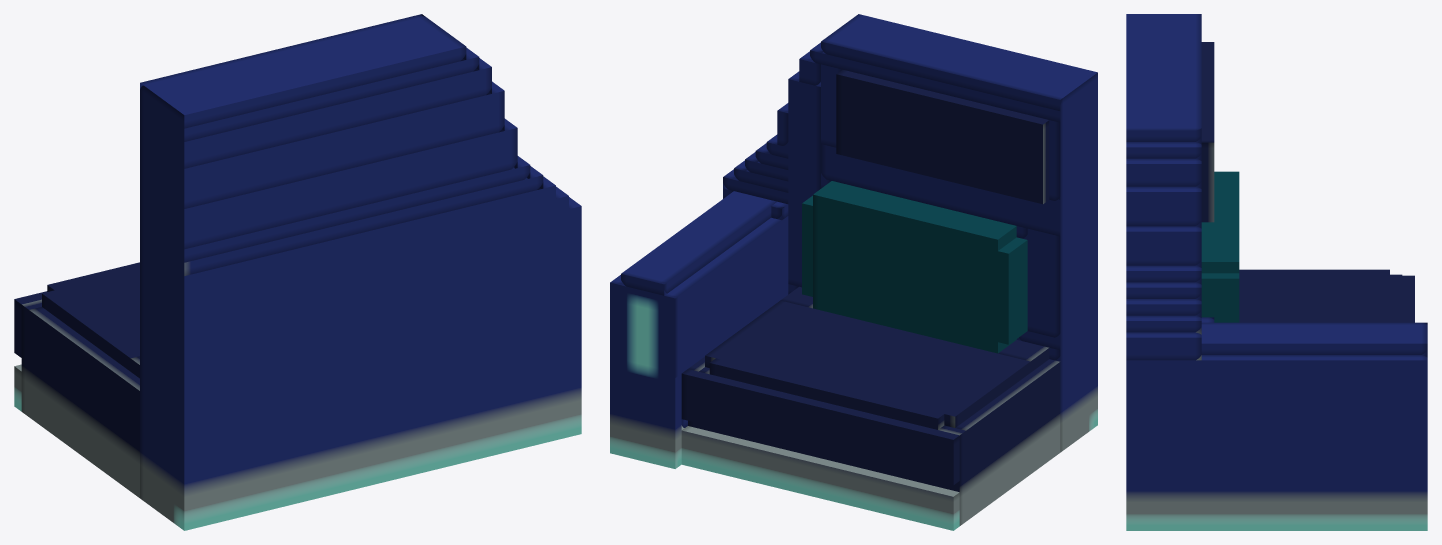
3 renders of one model, left to right at view 1: azimuth 30°, elevation 25°; view 2: azimuth 150°, elevation 25°; view 3: azimuth 270°, elevation 25°, orthographic. The views are drawn at different scales.
Parts seen in each view (by area): view 1: Content; view 2: Content; view 3: Content.
Part boxes in pixels (x1,y1,x2,y2): Content: [14, 14, 581, 530]; Content: [610, 14, 1097, 530]; Content: [1126, 14, 1427, 530].
Bounding box in the file's own units: 31 × 31 × 24.
Materials: 1 (1 with a texture image).
